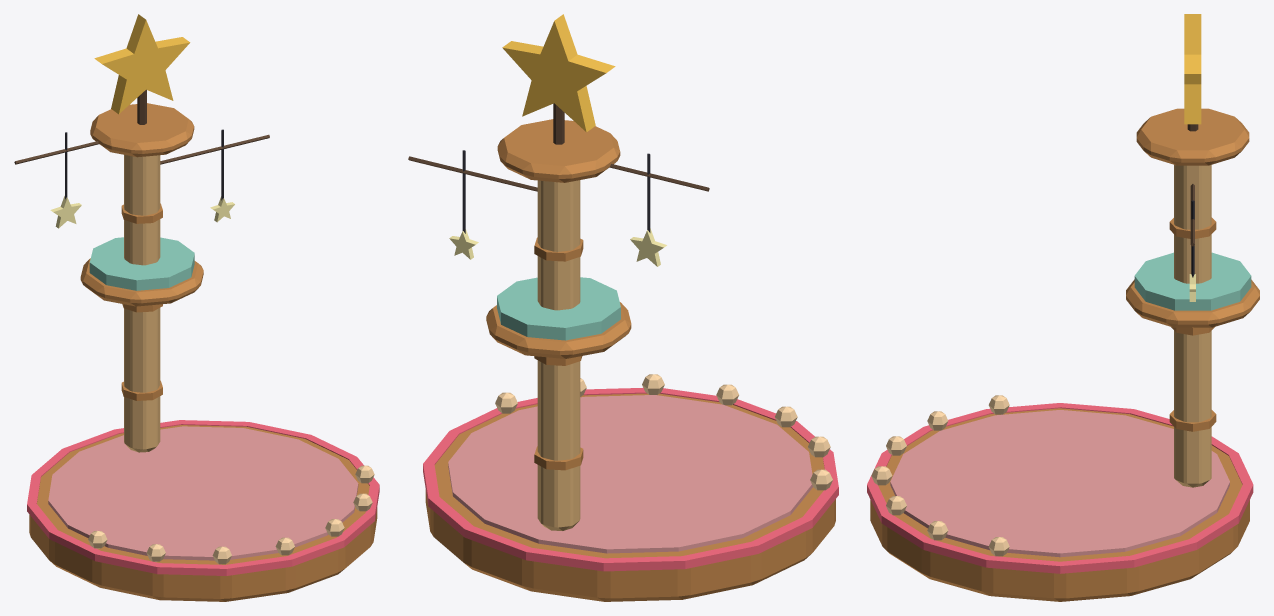
The model's file is CatCafe_Furniture_StageCatTree.glb.
The picture shows the model from 3 angles, left to right: view 1: azimuth 30°, elevation 25°; view 2: azimuth 150°, elevation 25°; view 3: azimuth 270°, elevation 25°; orthographic projection. The views are drawn at different scales.
Parts seen in each view (by area): view 1: CatCafe_Furniture_StageCatTree_Stage, CatCafe_Furniture_StageCatTree_Bulbs; view 2: CatCafe_Furniture_StageCatTree_Stage, CatCafe_Furniture_StageCatTree_Bulbs; view 3: CatCafe_Furniture_StageCatTree_Stage, CatCafe_Furniture_StageCatTree_Bulbs.
Part boxes in pixels (box(x1,y1,x2,y2)): CatCafe_Furniture_StageCatTree_Stage: box(14, 14, 379, 601); CatCafe_Furniture_StageCatTree_Bulbs: box(88, 465, 374, 564); CatCafe_Furniture_StageCatTree_Stage: box(408, 14, 838, 601); CatCafe_Furniture_StageCatTree_Bulbs: box(495, 374, 832, 490); CatCafe_Furniture_StageCatTree_Stage: box(867, 14, 1259, 601); CatCafe_Furniture_StageCatTree_Bulbs: box(871, 395, 1009, 556).
Size of the model in its own units: 3.64 by 5.3 by 3.7.
Materials: 1 (1 with a texture image).
